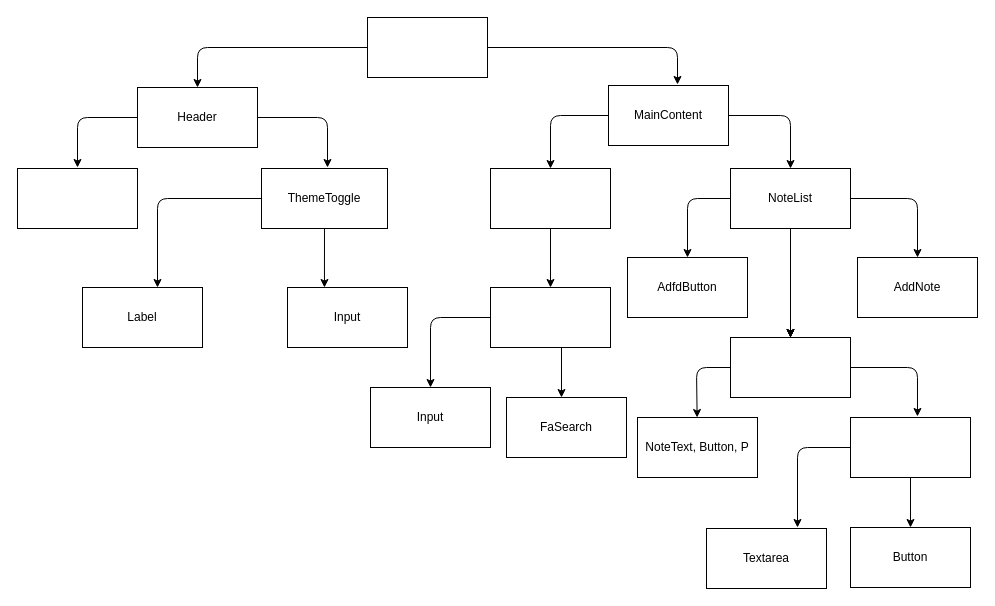
The diagram is 995 pixels wide and 606 high, and some of its shapes have lost their labels. Here are the shapes that lost their labels. From the top down, the centre of each, then its label:
At point (427, 47): "App".
At point (77, 198): "H1".
At point (550, 198): "SeachBar".
At point (550, 317): "SearchInput".
At point (790, 367): "Note".
At point (910, 447): "EditNote".
